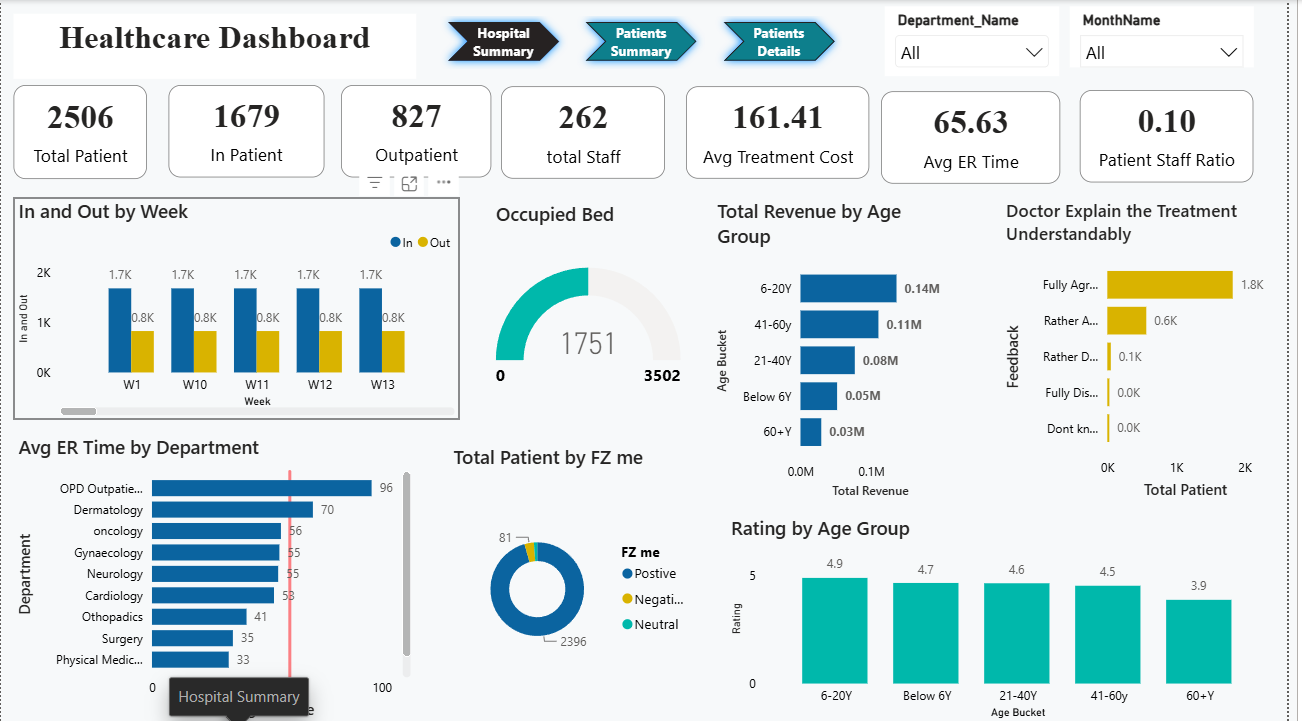

What the dashboard file says about the page in this screenshot:
{"tool":"powerbi","page":{"name":"Hospital Summary ","canvas":[1280,720],"ordinal":0},"visuals":[{"type":"cardVisual","fields":{"Data":["Measure.Total Patient"]},"box":[12.4,84.6,133,93.2],"z":1000},{"type":"textbox","box":[12.4,13.7,400.6,64.7],"z":2000},{"type":"slicer","fields":{"Values":["Department.Department_Name"]},"box":[878.9,6.1,173.6,69.7],"z":3000},{"type":"slicer","fields":{"Values":["Calendar_date.MonthName"]},"box":[1063.6,6.2,182.9,61],"z":4000},{"type":"cardVisual","fields":{"Data":["Measure.In Patient"]},"box":[167.3,85,154.9,91.9],"z":5000},{"type":"cardVisual","fields":{"Data":["Measure.Outpatient"]},"box":[338.6,85,149.4,91.9],"z":6000},{"type":"cardVisual","fields":{"Data":["Bed_Detail.total Staff"]},"box":[497.7,86.4,163.2,91.9],"z":7000},{"type":"cardVisual","fields":{"Data":["Measure.Avg Treatment Cost"]},"box":[681.4,86.4,182.3,91.9],"z":8000},{"type":"cardVisual","fields":{"Data":["Measure.Avg ER Time"]},"box":[876.1,90.5,178.2,91.9],"z":9000},{"type":"cardVisual","fields":{"Data":["Bed_Detail.Patient Staff Ratio"]},"box":[1073.5,89.1,172.8,91.9],"z":10000},{"type":"clusteredColumnChart","fields":{"Category":["Calendar_date.WeekName"],"Y":["Calendar_date.In Patient","Calendar_date.Outpatient"]},"box":[12.3,196.1,444.2,222.1],"z":11000},{"type":"gauge","fields":{"Y":["Divide(Measure.Occupied Bed, ScopedEval(Measure.Occupied Bed, []))"]},"box":[487.6,200.3,194.1,231.4],"z":12000},{"type":"clusteredBarChart","title":"Total Revenue by Age Group","fields":{"Category":["Detail data dataset.Age Bucket"],"Y":["Measure.Total Revenue"]},"box":[707.8,196.5,246.3,304.8],"z":13000},{"type":"barChart","fields":{"Category":["Department.Department_Name"],"Y":["Measure.Avg ER Time"]},"box":[12.4,431.7,400.6,288.6],"z":14000},{"type":"barChart","title":"Doctor Explain the Treatment Understandably","fields":{"Category":["Detail data dataset.Feedback"],"Y":["Measure.Total Patient"]},"box":[995.2,197.8,273.7,303.5],"z":15000},{"type":"columnChart","title":"Rating by Age Group","fields":{"Category":["Detail data dataset.Age Bucket"],"Y":["Measure.Rating"]},"box":[721.5,512.5,547.3,207.7],"z":16000},{"type":"donutChart","fields":{"Category":["Detail data dataset.FZ me"],"Y":["Measure.Total Patient"]},"box":[445.3,441.6,250,265],"z":17000},{"type":"pageNavigator","box":[436.4,13.4,402.2,55],"z":18000}]}

Visuals, with their boxes in screenshot pixels (x1, y1, x2, y2), scaled from the page's 1280x720 canvas onto the 1302x721 screenshot:
cardVisual - Measure.Total Patient: (13, 85, 148, 178)
textbox: (13, 14, 420, 79)
slicer - Department.Department_Name: (894, 6, 1071, 76)
slicer - Calendar_date.MonthName: (1082, 6, 1268, 67)
cardVisual - Measure.In Patient: (170, 85, 328, 177)
cardVisual - Measure.Outpatient: (344, 85, 496, 177)
cardVisual - Bed_Detail.total Staff: (506, 87, 672, 179)
cardVisual - Measure.Avg Treatment Cost: (693, 87, 879, 179)
cardVisual - Measure.Avg ER Time: (891, 91, 1072, 183)
cardVisual - Bed_Detail.Patient Staff Ratio: (1092, 89, 1268, 181)
clusteredColumnChart - Calendar_date.WeekName x Calendar_date.In Patient: (13, 196, 464, 419)
gauge - Divide(Measure.Occupied Bed, ScopedEval(Measure.Occupied Bed, [])): (496, 201, 693, 432)
"Total Revenue by Age Group" clusteredBarChart: (720, 197, 970, 502)
barChart - Department.Department_Name x Measure.Avg ER Time: (13, 432, 420, 720)
"Doctor Explain the Treatment Understandably" barChart: (1012, 198, 1291, 502)
"Rating by Age Group" columnChart: (734, 513, 1291, 720)
donutChart - Detail data dataset.FZ me x Measure.Total Patient: (453, 442, 707, 708)
pageNavigator: (444, 13, 853, 68)
